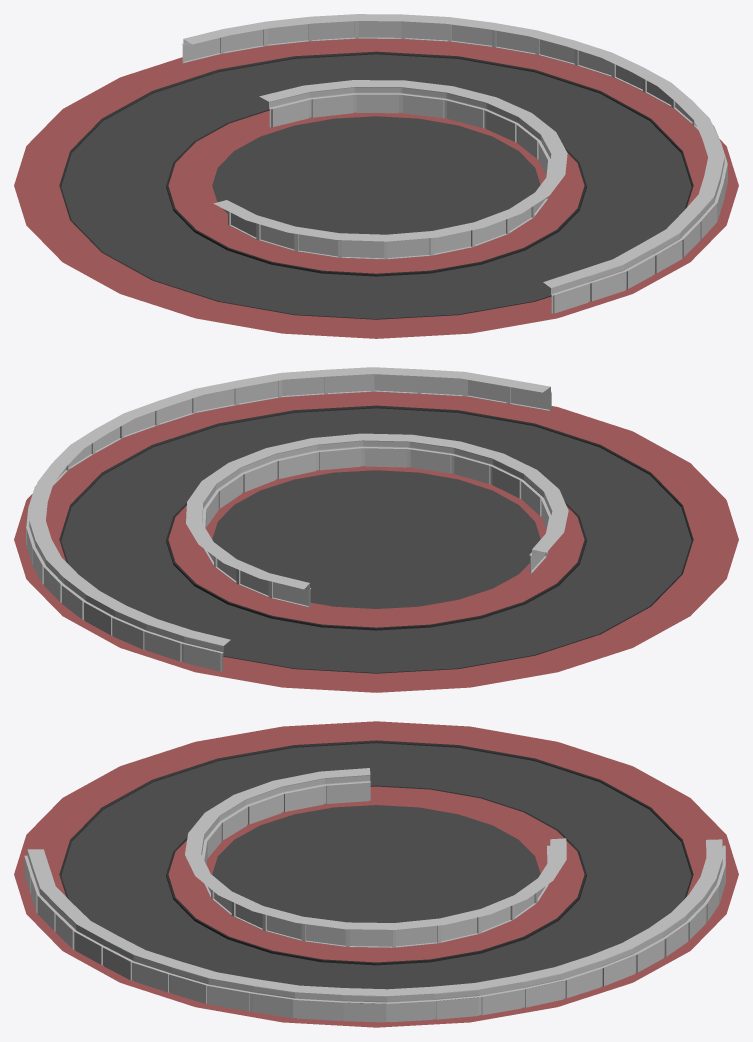
Rendered from city1229.fbx.
The picture shows the model from 3 angles, top to bottom: view 1: azimuth 30°, elevation 25°; view 2: azimuth 150°, elevation 25°; view 3: azimuth 270°, elevation 25°; orthographic projection.
Parts seen in each view (by area): view 1: road, outter ped road, store_gate.003, store_gate.001, inner ped road; view 2: road, outter ped road, store_gate.003, store_gate.001, inner ped road; view 3: road, outter ped road, store_gate.003, inner ped road, store_gate.001.
Boxes of the visible parts, box(x1,y1,x2,y2) form: road: box(61, 54, 691, 318); outter ped road: box(14, 38, 738, 338); store_gate.003: box(182, 14, 727, 313); store_gate.001: box(213, 80, 567, 259); inner ped road: box(166, 109, 586, 276); road: box(61, 408, 691, 672); outter ped road: box(14, 391, 738, 692); store_gate.003: box(26, 367, 551, 671); store_gate.001: box(186, 433, 568, 607); inner ped road: box(166, 466, 586, 630); road: box(61, 743, 691, 1003); outter ped road: box(14, 721, 738, 1027); store_gate.003: box(24, 839, 725, 1022); inner ped road: box(166, 785, 586, 965); store_gate.001: box(185, 768, 566, 947).
Bounding box in the file's own units: 12407 × 513 × 12407.
